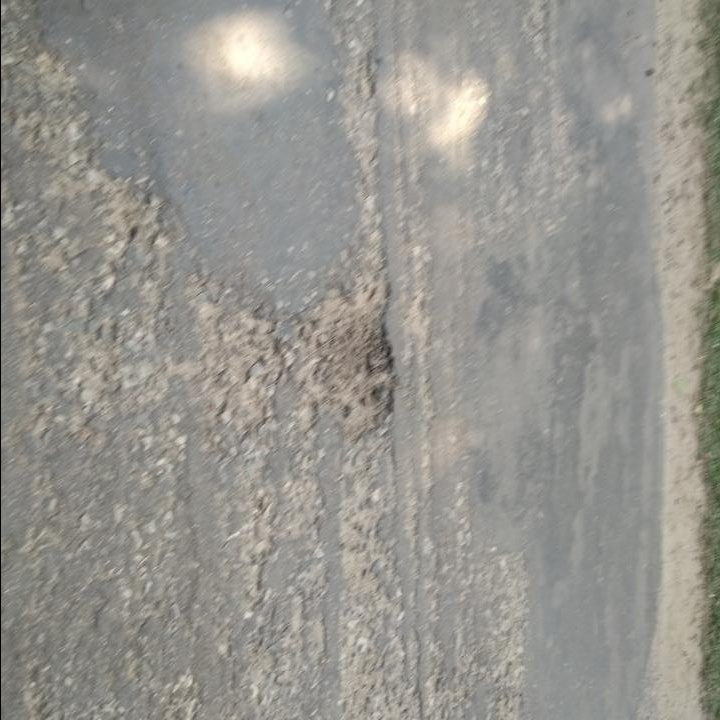pothole: (295, 273, 404, 440)
